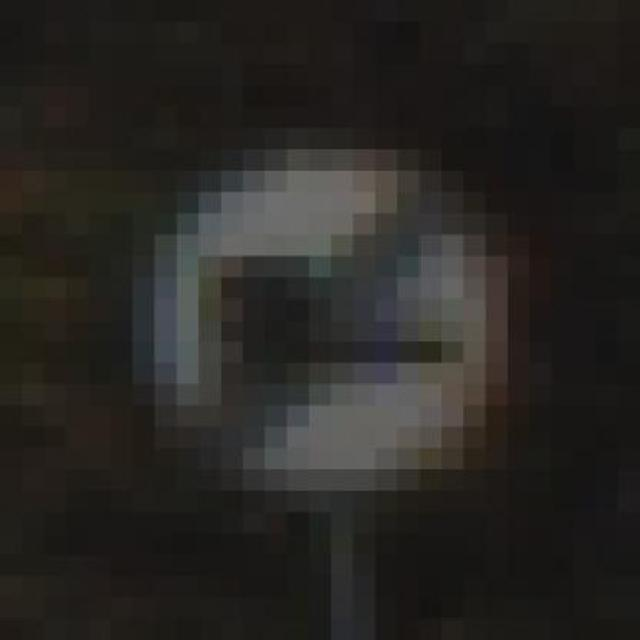Overtaking by trucks is prohibited: (89, 86, 552, 554)
